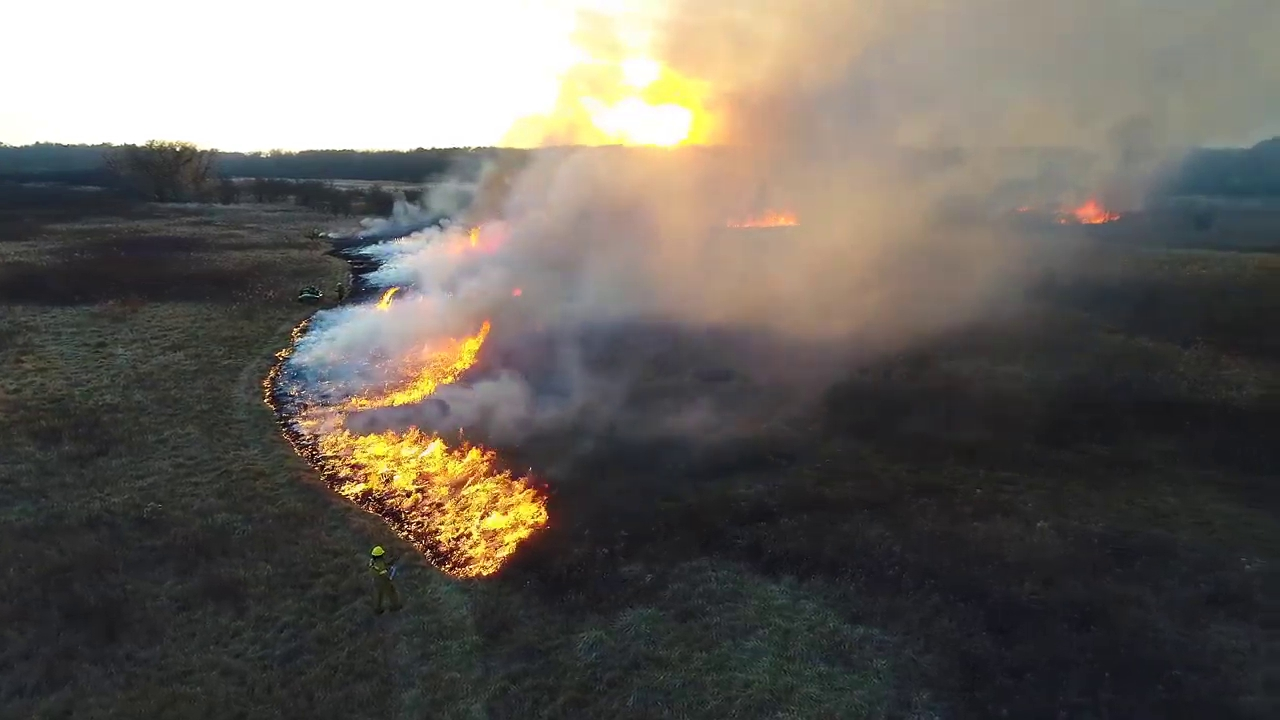forest_fire: (264, 316, 548, 577), (1056, 199, 1120, 224), (446, 225, 500, 251), (728, 211, 798, 228), (373, 286, 400, 311)
